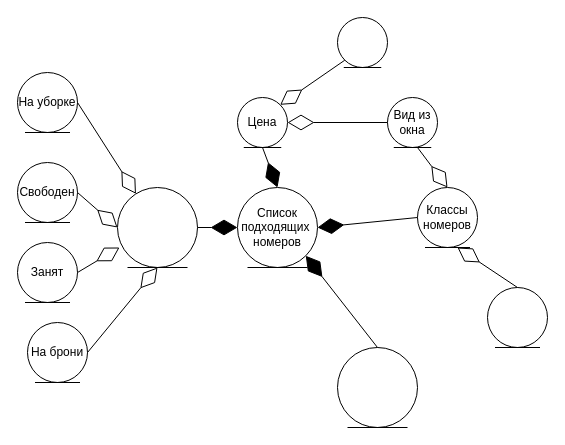
This 565x445 diagram has some shape labels left out. Each missing label, with the centre of its shape:
Дата заезда: pixel 362 42
Количество посетителей: pixel 377 387
Размер номера: pixel 517 317
Состояние номера: pixel 157 227
